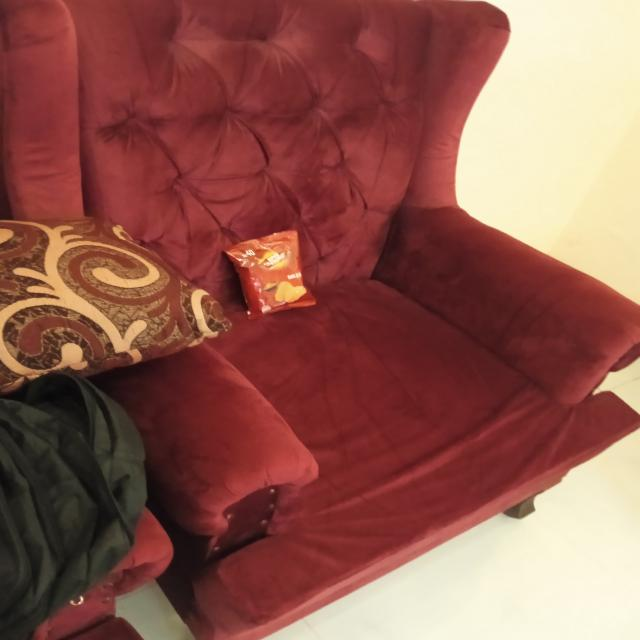Plastic: (218, 226, 324, 317)
